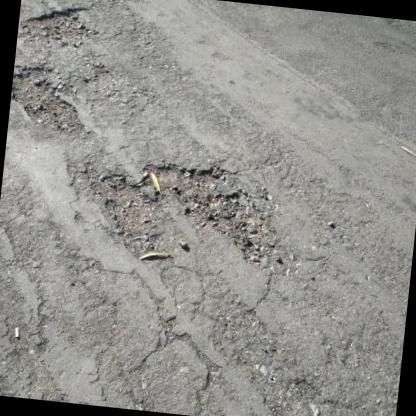pothole: (86, 152, 284, 275), (7, 60, 95, 138), (17, 0, 100, 53)
